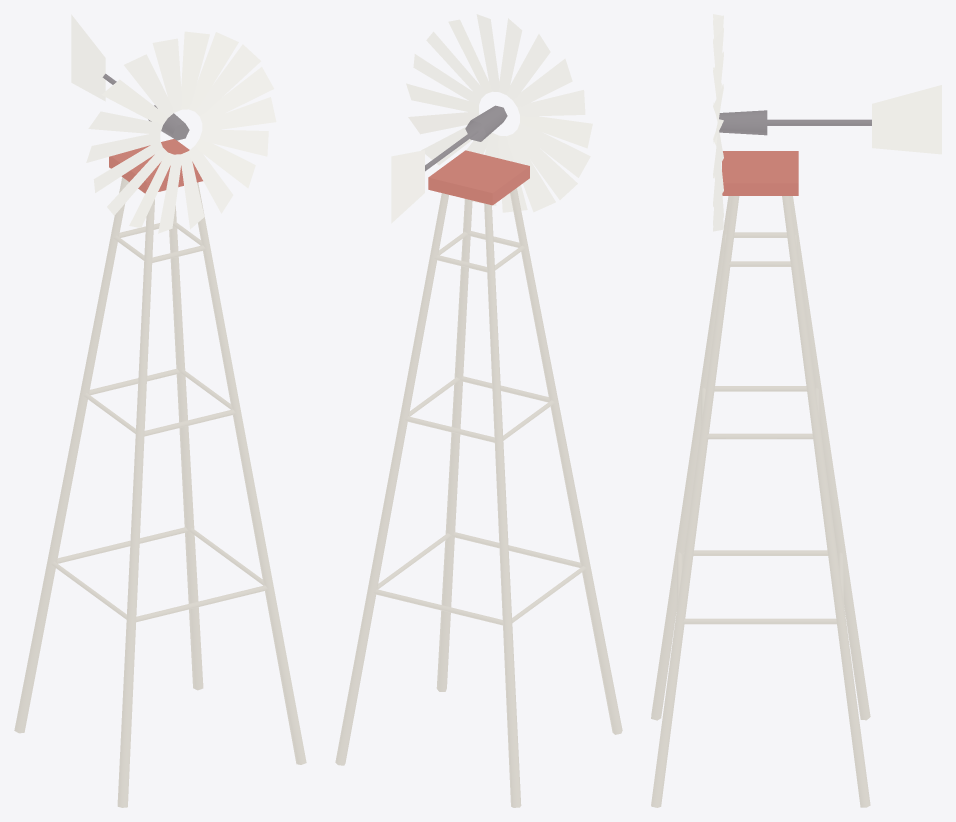
Rendered from Blender_Windpump.glb.
3 renders of one model, left to right at view 1: azimuth 30°, elevation 25°; view 2: azimuth 150°, elevation 25°; view 3: azimuth 270°, elevation 25°, orthographic. The views are drawn at different scales.
Visible parts, largest first — view 1: Blender_Windpump; view 2: Blender_Windpump; view 3: Blender_Windpump.
Boxes of the visible parts, box(x1,y1,x2,y2) form: Blender_Windpump: box(14, 14, 306, 807); Blender_Windpump: box(335, 14, 622, 807); Blender_Windpump: box(651, 14, 941, 807).
Bounding box in the file's own units: 3.15 × 11.67 × 4.16.
